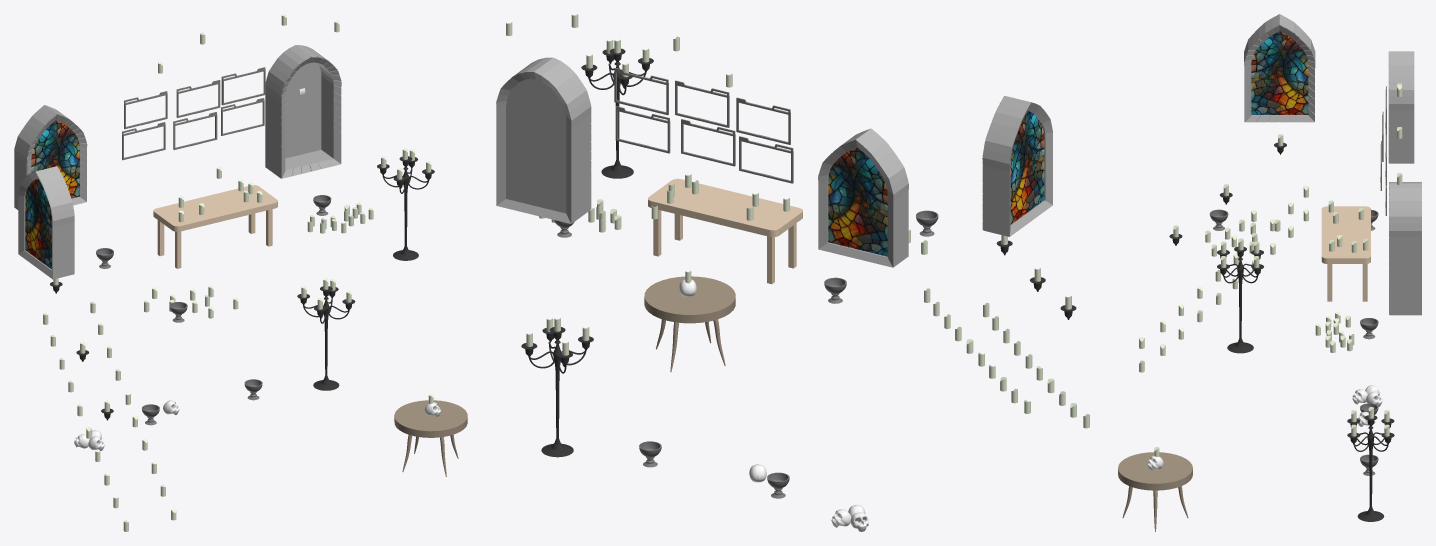
The model's file is ----items.glb.
The picture shows the model from 3 angles, left to right: view 1: azimuth 30°, elevation 25°; view 2: azimuth 150°, elevation 25°; view 3: azimuth 270°, elevation 25°; orthographic projection. The views are drawn at different scales.
Parts seen in each view (by area): view 1: WindowRock.003, WindowRock.001, DesktopBase, WindowRock.002, WindowCrystal01.002, TableBase, WindowCrystal01.003, CandelabraBase.001, CandelabraBase; view 2: WindowRock.003, WindowRock.001, WindowCrystal01.004, WindowRock.002, DesktopBase, TableBase, WindowCrystal01.003, CandelabraBase; view 3: WindowRock.003, WindowCrystal01.001, WindowRock.002, WindowRock.001, DesktopBase, TableBase, CandelabraBase, CandelabraBase.001.
Boxes of the visible parts, bbox=[...] form: WindowRock.003: bbox=[265, 45, 341, 178]; WindowRock.001: bbox=[18, 166, 74, 279]; DesktopBase: bbox=[153, 185, 277, 231]; WindowRock.002: bbox=[14, 105, 87, 209]; WindowCrystal01.002: bbox=[31, 120, 79, 198]; TableBase: bbox=[394, 400, 467, 437]; WindowCrystal01.003: bbox=[25, 178, 51, 269]; CandelabraBase.001: bbox=[393, 167, 418, 260]; CandelabraBase: bbox=[313, 297, 339, 390]; WindowRock.003: bbox=[496, 57, 591, 223]; WindowRock.001: bbox=[982, 96, 1052, 236]; WindowCrystal01.004: bbox=[828, 147, 887, 256]; WindowRock.002: bbox=[818, 128, 908, 267]; DesktopBase: bbox=[648, 178, 802, 237]; TableBase: bbox=[644, 276, 735, 323]; WindowCrystal01.003: bbox=[1010, 111, 1044, 224]; CandelabraBase: bbox=[541, 340, 573, 457]; WindowRock.003: bbox=[1389, 182, 1421, 315]; WindowCrystal01.001: bbox=[1251, 31, 1308, 114]; WindowRock.002: bbox=[1388, 51, 1414, 163]; WindowRock.001: bbox=[1244, 14, 1315, 122]; DesktopBase: bbox=[1321, 206, 1370, 263]; TableBase: bbox=[1118, 452, 1192, 490]; CandelabraBase: bbox=[1357, 426, 1384, 521]; CandelabraBase.001: bbox=[1227, 257, 1253, 353].
Size of the model in its own units: 17.72 by 16.94 by 12.32.
Materials: 10 (1 with a texture image).
